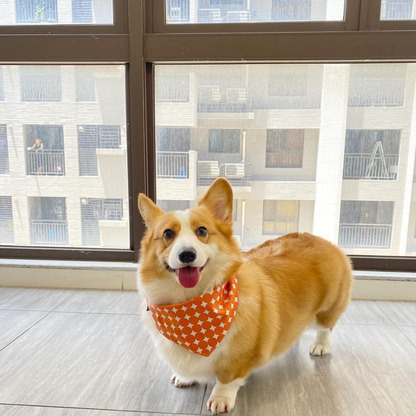Corgi: (130, 175, 372, 408)
